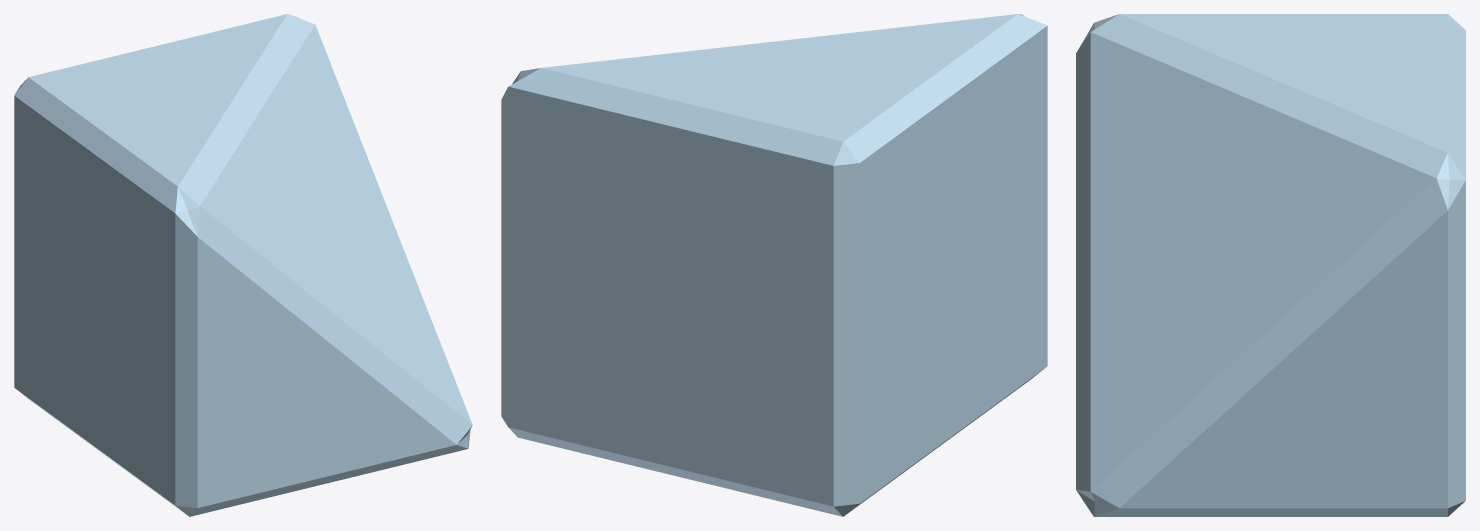
Rendered from R4B_InnerCorner_LOD1.glb.
3 views of the same model, side by side, from view 1: azimuth 30°, elevation 25°; view 2: azimuth 150°, elevation 25°; view 3: azimuth 270°, elevation 25° (orthographic). The views are drawn at different scales.
Visible parts, largest first — view 1: R4B_InnerCorner_LOD1; view 2: R4B_InnerCorner_LOD1; view 3: R4B_InnerCorner_LOD1.
Boxes of the visible parts, x1,y1,x2,y2 form: R4B_InnerCorner_LOD1: [14, 14, 472, 516]; R4B_InnerCorner_LOD1: [501, 14, 1047, 516]; R4B_InnerCorner_LOD1: [1076, 14, 1465, 516].
Bounding box in the file's own units: 0.52 × 0.52 × 0.52.
